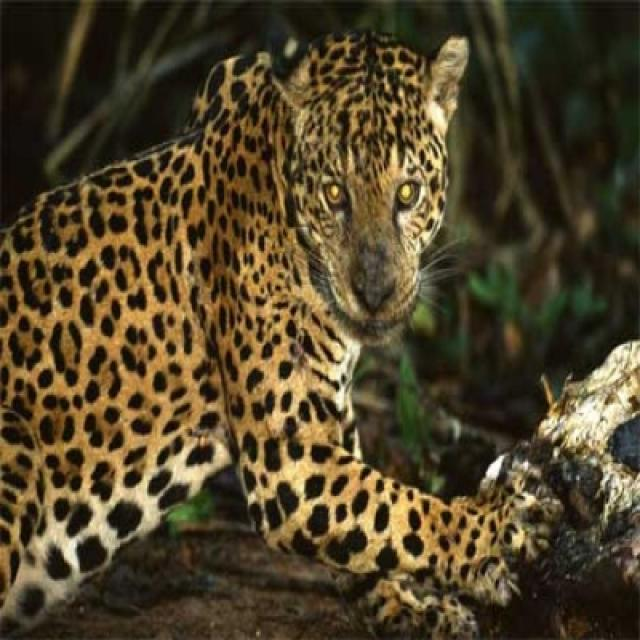Jaguar: (0, 22, 579, 638)
